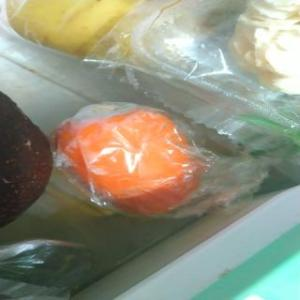carrot: (58, 106, 222, 214)
